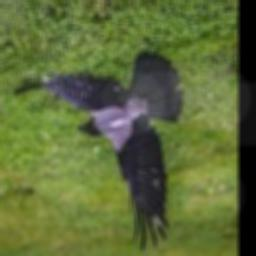Crow: (11, 51, 183, 250)
